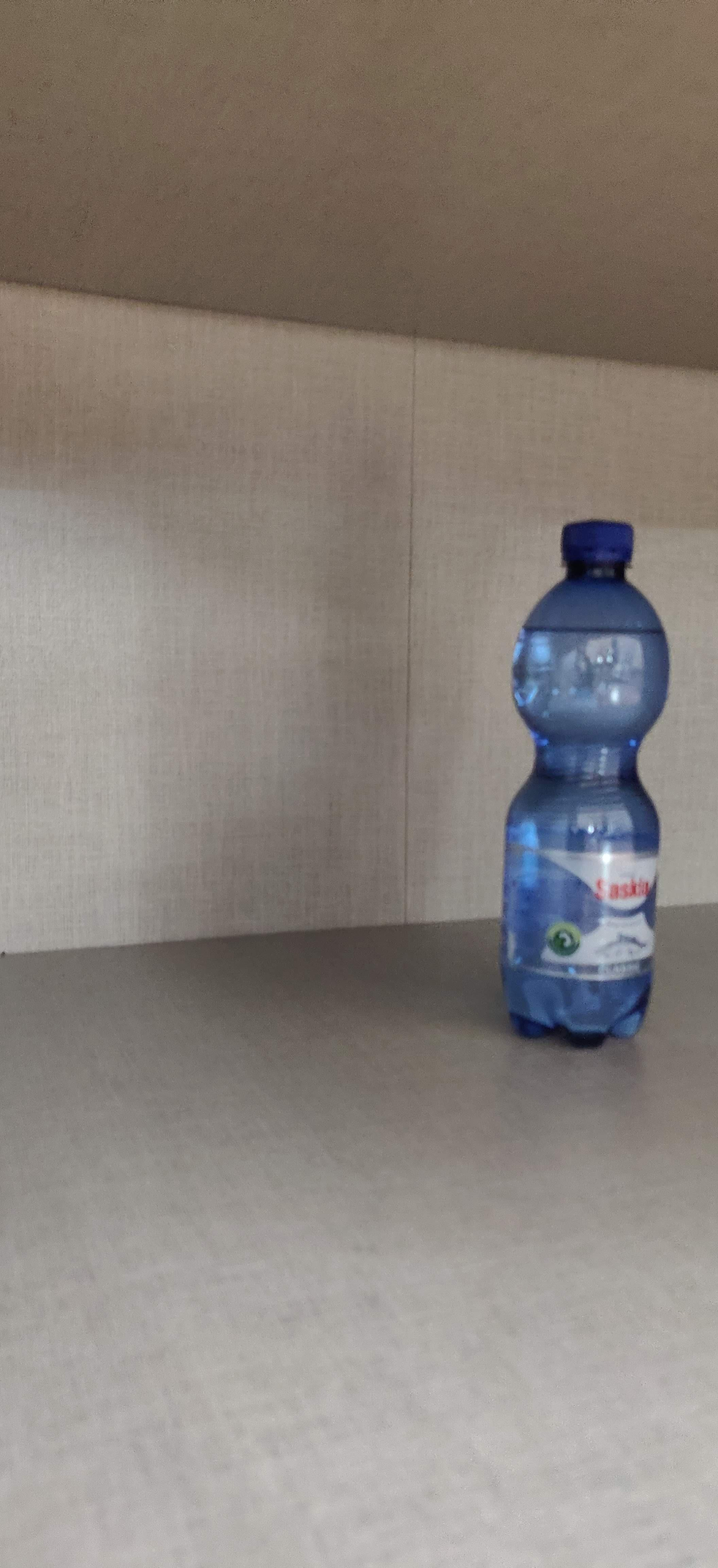bottle-plastic: (491, 515, 676, 1049)
